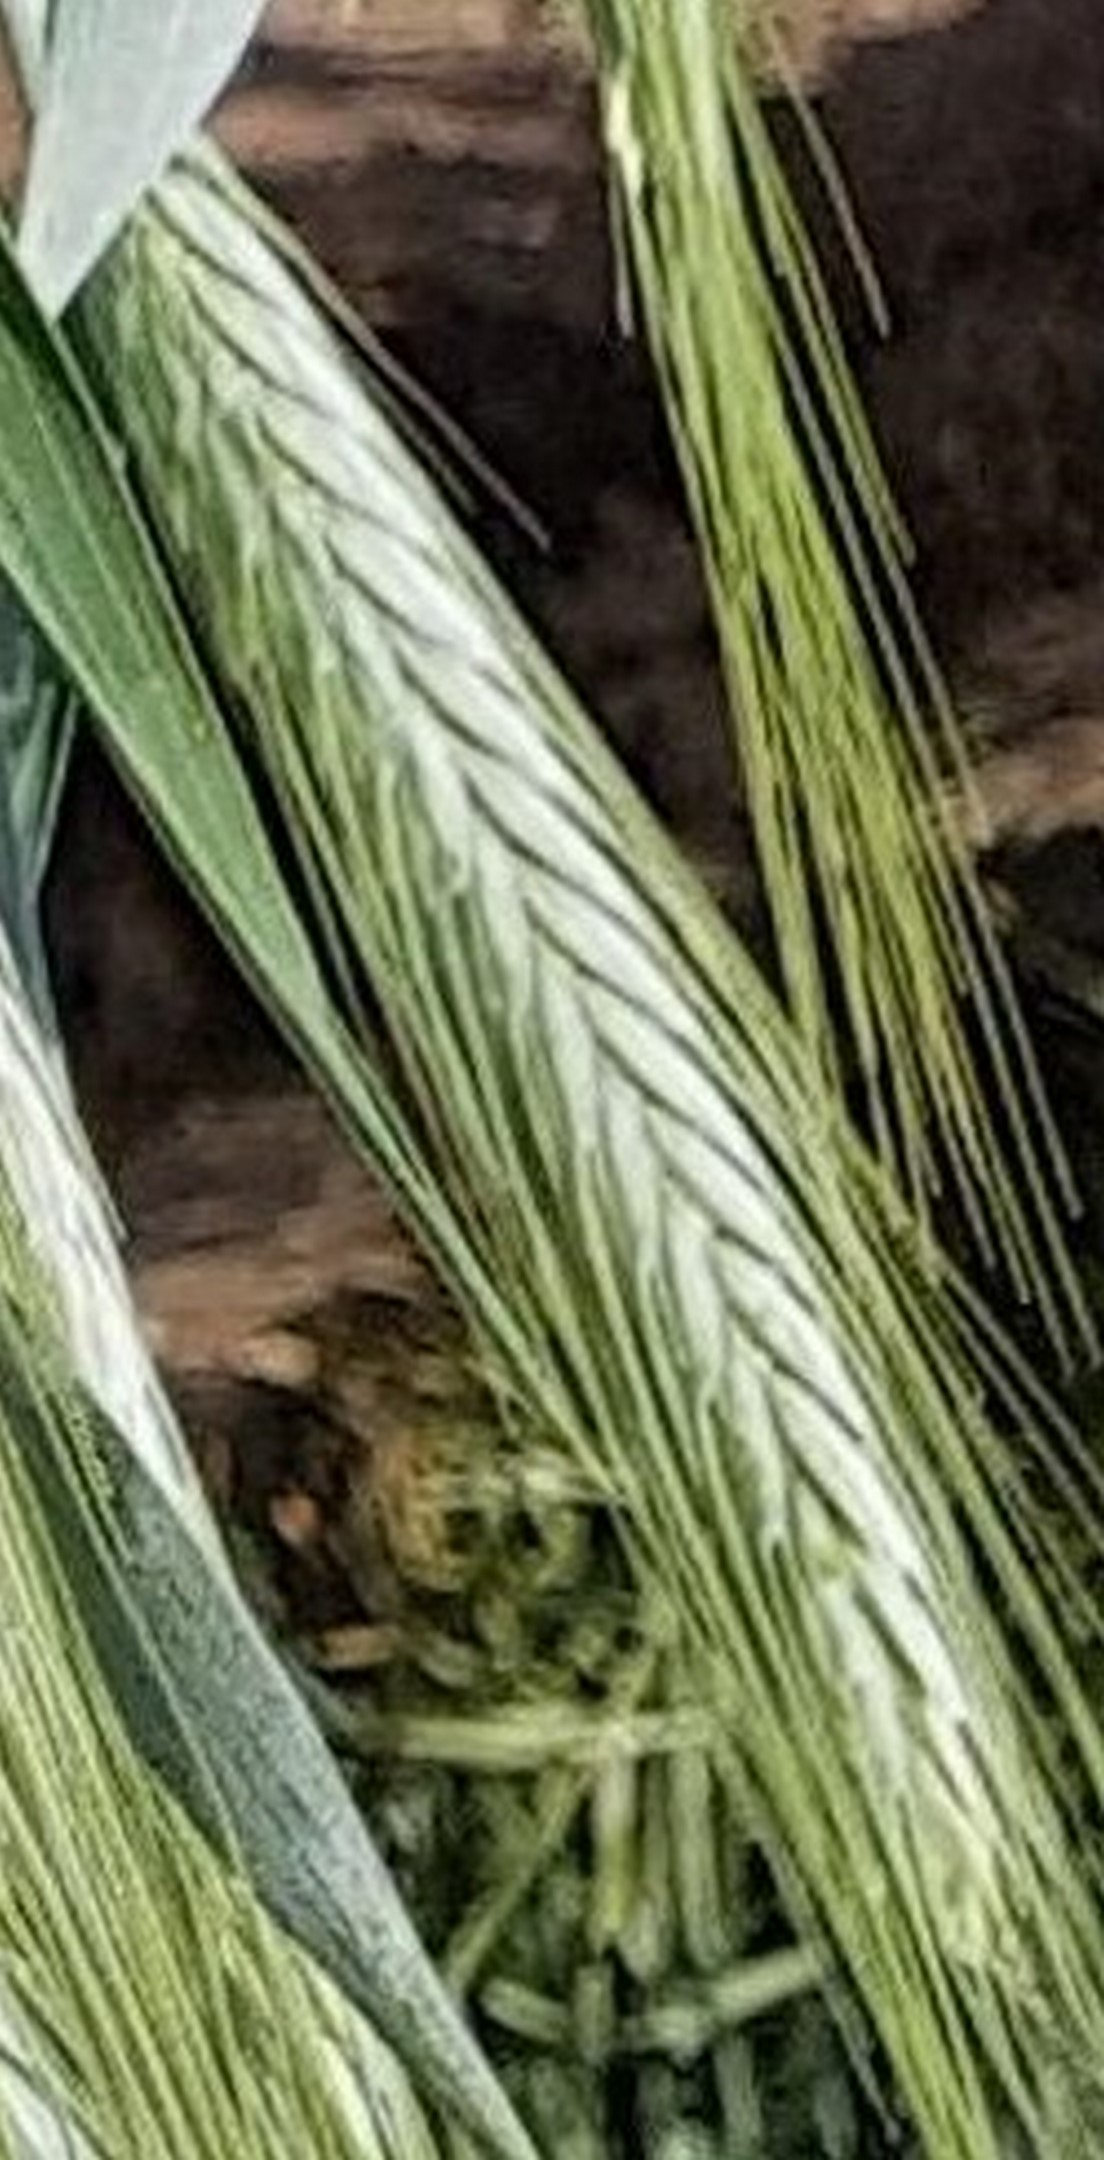Healthy Wheat: (90, 184, 1096, 1956)
